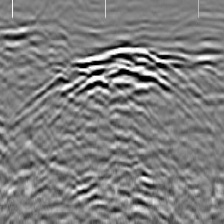cavities: (29, 40, 194, 103)
